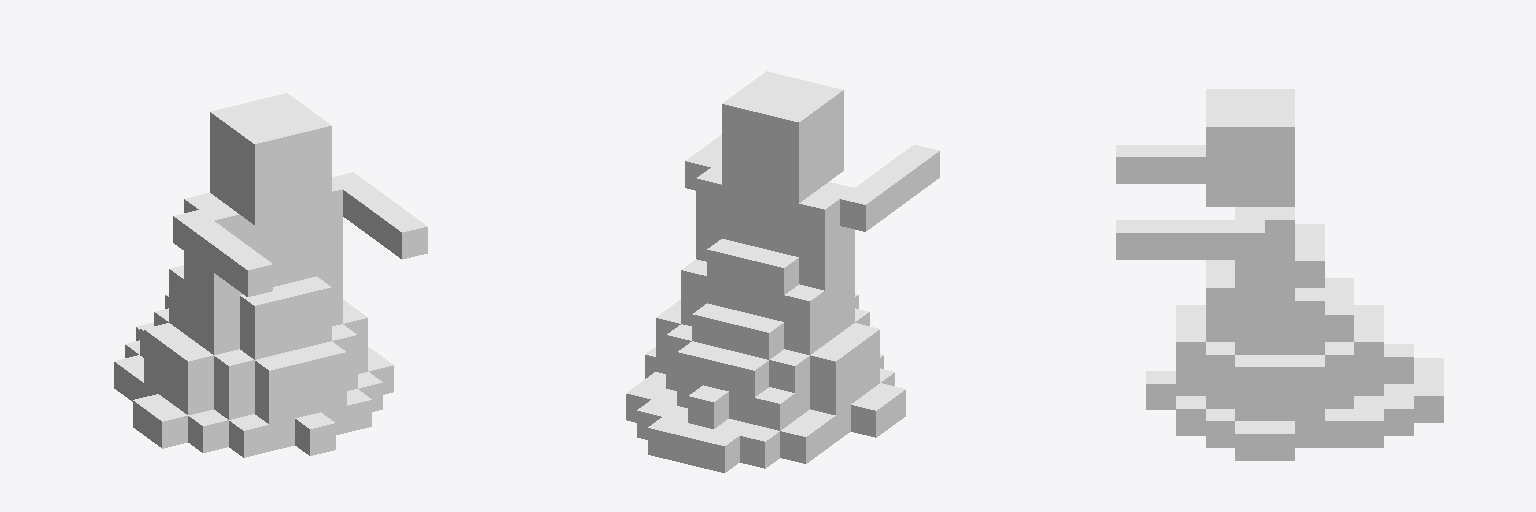
File: walk_1.obj
3 renders of one model, left to right at view 1: azimuth 30°, elevation 25°; view 2: azimuth 150°, elevation 25°; view 3: azimuth 270°, elevation 25°, orthographic.
Bounding box in the file's own units: 9 × 11 × 11.